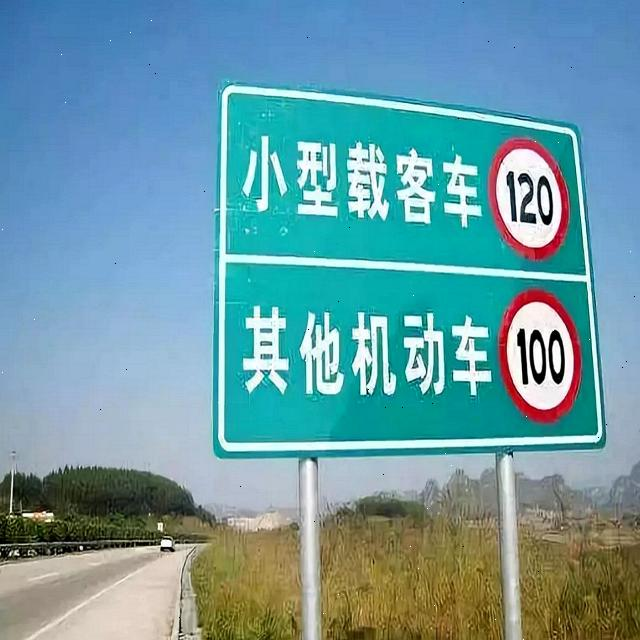speed limit 100: (497, 289, 582, 421)
speed limit 120: (486, 135, 570, 259)
